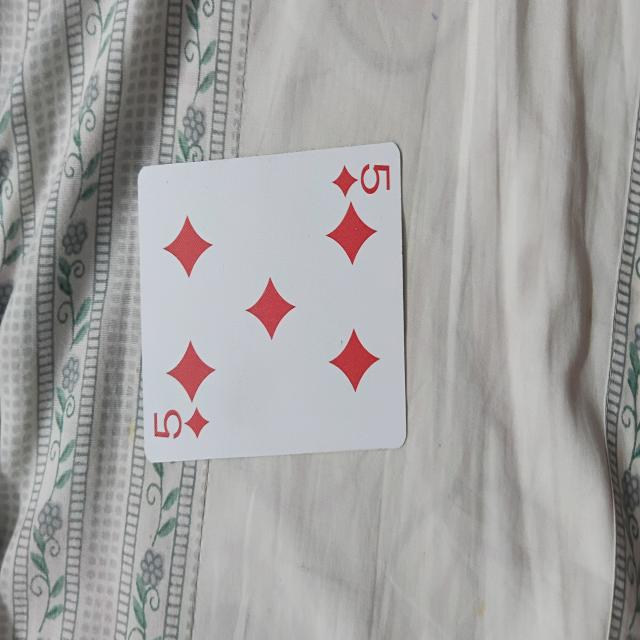5D: (137, 135, 404, 466)
